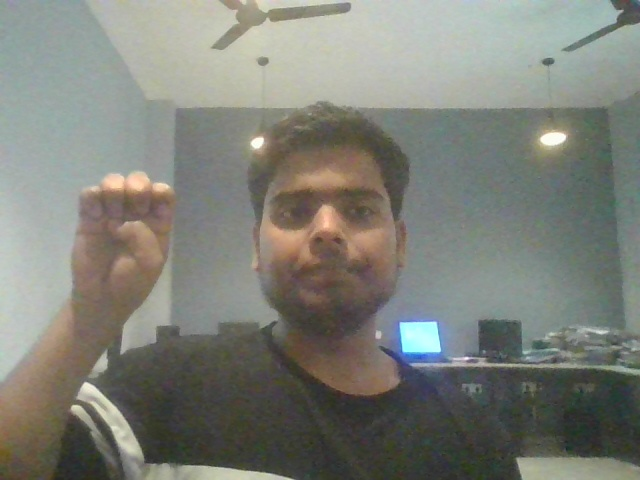E: (42, 166, 198, 340)
